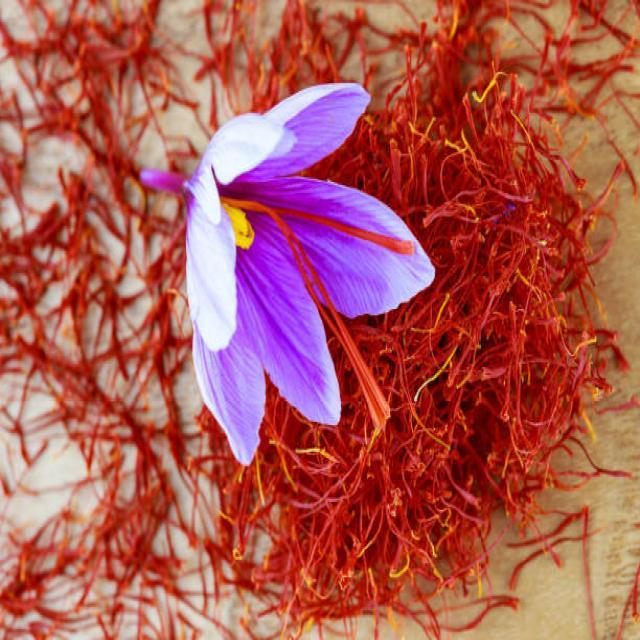Flower: (176, 116, 362, 379)
stigma: (280, 242, 398, 409), (218, 182, 411, 265)
